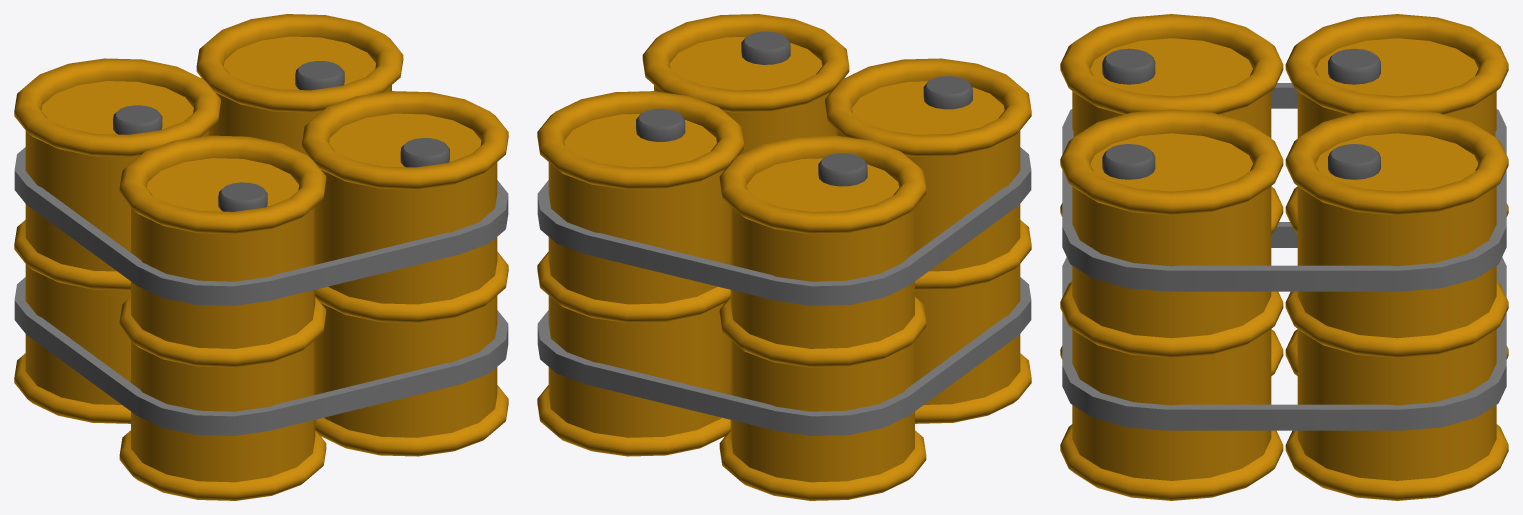
The model's file is SRA_Oil_Barrel_Stack_Yellow.glb.
3 views of the same model, side by side, from view 1: azimuth 30°, elevation 25°; view 2: azimuth 150°, elevation 25°; view 3: azimuth 270°, elevation 25° (orthographic). The views are drawn at different scales.
Visible parts, largest first — view 1: Oil_Barrel_Stack_Yellow; view 2: Oil_Barrel_Stack_Yellow; view 3: Oil_Barrel_Stack_Yellow.
Part boxes in pixels (bbox=[...]): Oil_Barrel_Stack_Yellow: bbox=[14, 14, 508, 500]; Oil_Barrel_Stack_Yellow: bbox=[537, 14, 1031, 500]; Oil_Barrel_Stack_Yellow: bbox=[1060, 14, 1508, 500].
Size of the model in its own units: 0.8038 by 0.5999 by 0.8043.
1 material, 1 textured.
